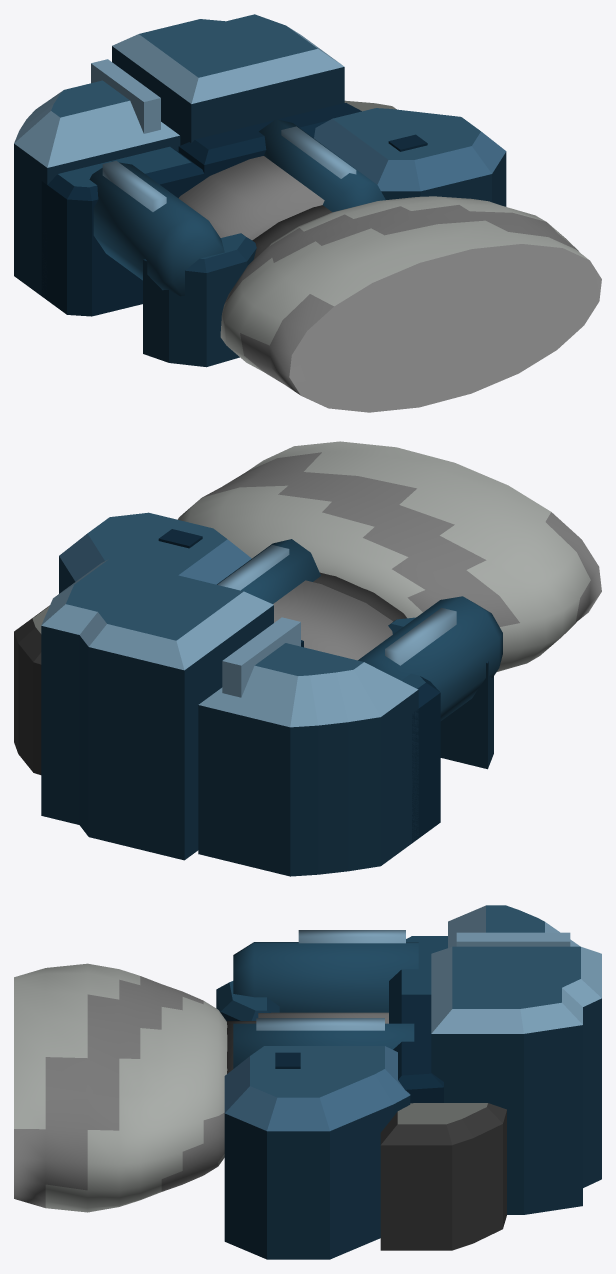
Rendered from newshv-1-f2.glb.
3 renders of one model, top to bottom at view 1: azimuth 30°, elevation 25°; view 2: azimuth 150°, elevation 25°; view 3: azimuth 270°, elevation 25°, orthographic. The views are drawn at different scales.
Visible parts, largest first — view 1: newshv-1-f2; view 2: newshv-1-f2; view 3: newshv-1-f2.
Part boxes in pixels (x1,y1,x2,y2): newshv-1-f2: (14,14,601,412); newshv-1-f2: (14,441,601,876); newshv-1-f2: (14,905,601,1259).
Size of the model in its own units: 1.83 by 0.8759 by 2.33.
